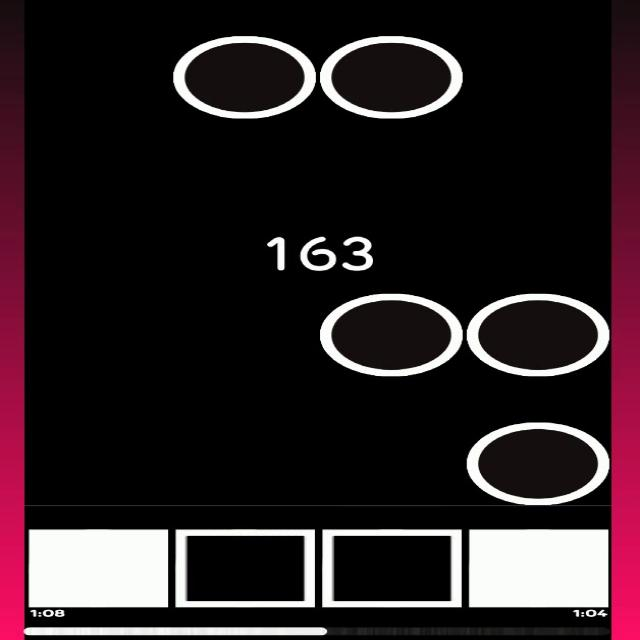note: (467, 421, 609, 507), (318, 35, 463, 119), (320, 292, 464, 376), (174, 34, 316, 118), (468, 292, 609, 376)
